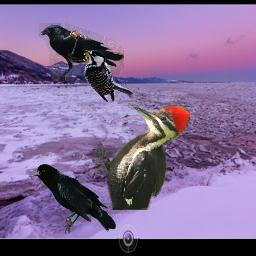Crow: (28, 164, 116, 234), (37, 23, 124, 81)
Woodpecker: (92, 103, 190, 210), (82, 48, 133, 102)
